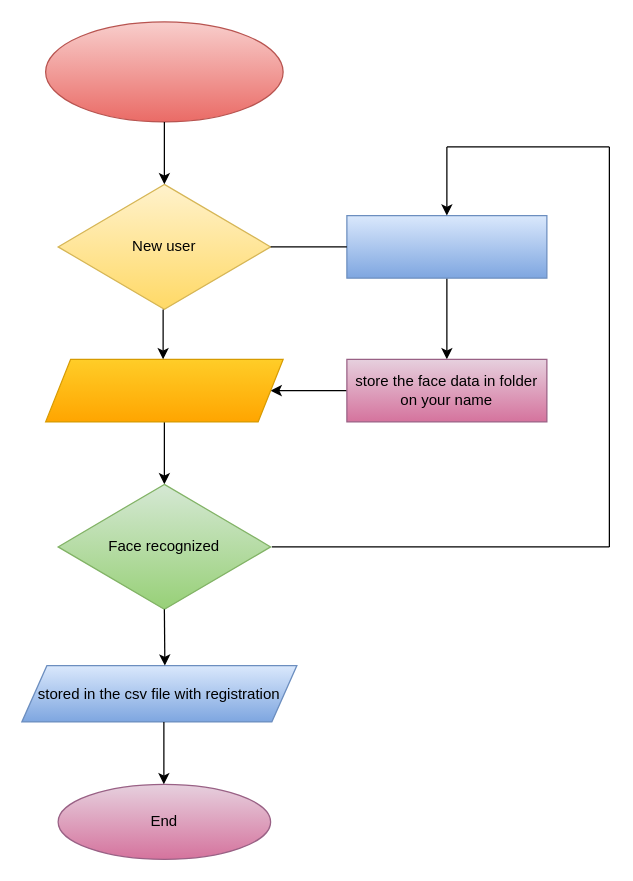
Some shapes in this 633 by 881 pixel diagram are drawn without their labels. The centre of each missing label's shape, as x and y in pixels:
"Give your paragraph" goes at pixel 446 246.
"Recognize the face" goes at pixel 163 390.
"Start" goes at pixel 163 71.
